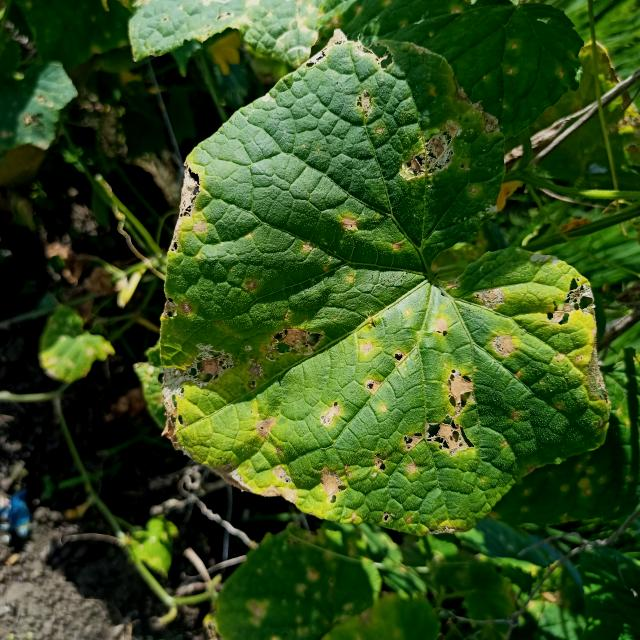disease_cucumber: (162, 40, 606, 518)
